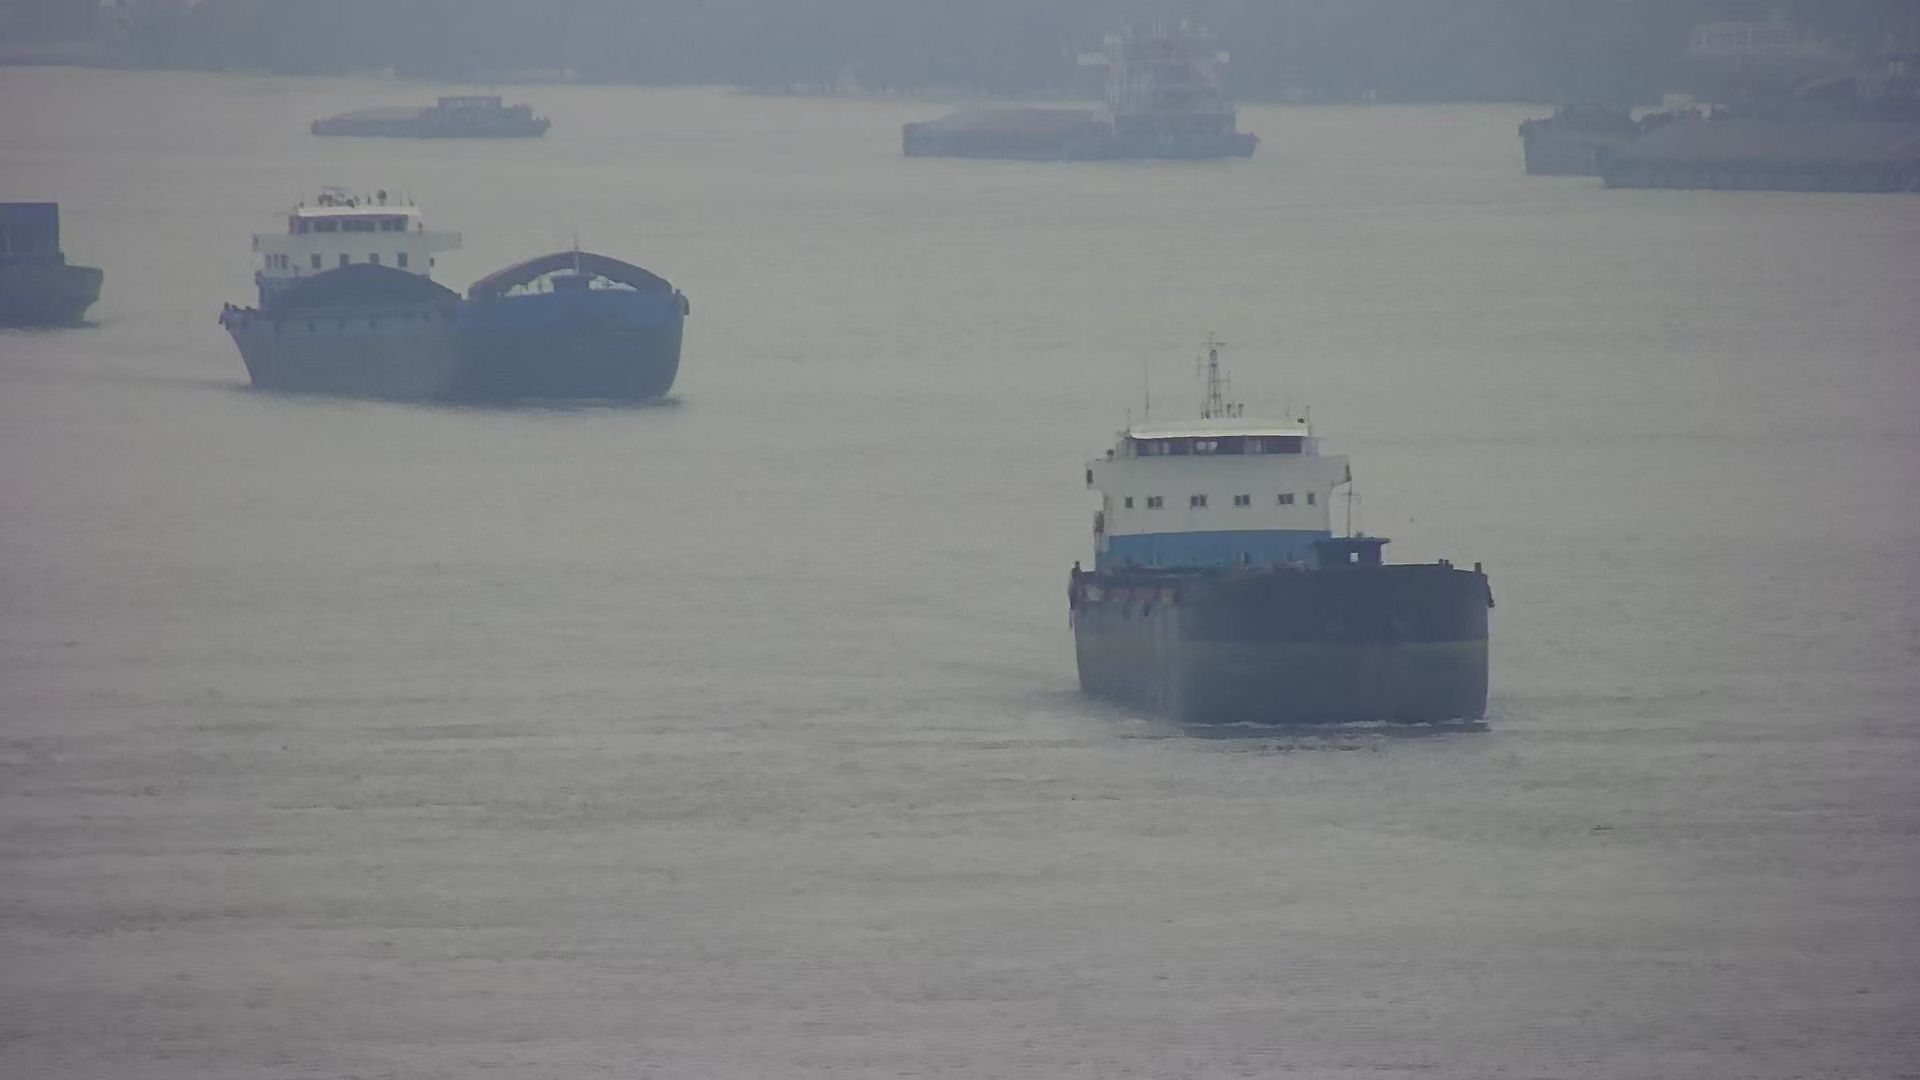ship: (1071, 338, 1494, 728), (233, 191, 688, 405), (1524, 22, 1920, 194), (903, 24, 1262, 158), (1, 199, 103, 332), (310, 91, 550, 142)
